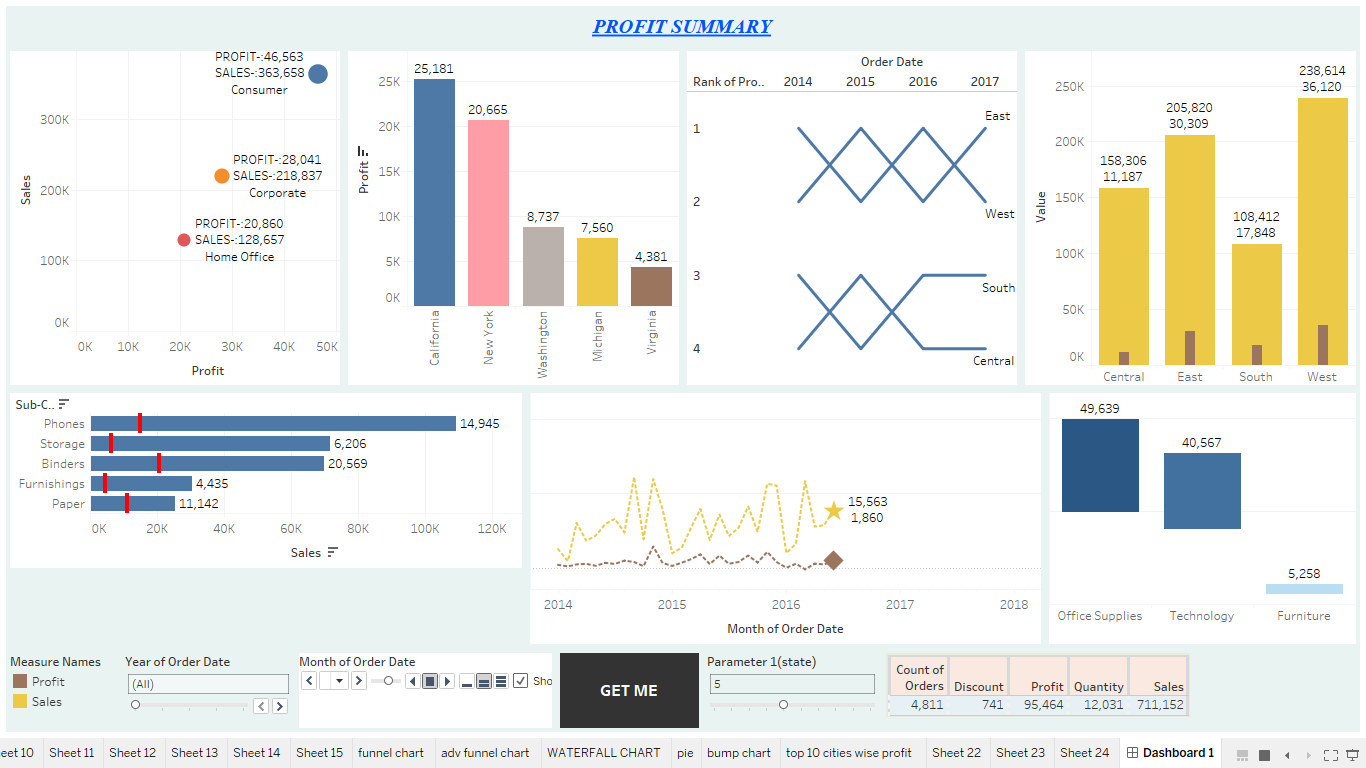

The page's visual inventory and layout, read from the dashboard file:
{"tool":"tableau","page":{"name":"Dashboard 1","canvas":[1000,1000],"units":"permille","ordinal":0},"visuals":[{"type":"text","box":[5.2,10.3,989.6,55.1]},{"type":"worksheet","title":"Sheet 24","mark":"Automatic","rows":["Sales"],"cols":["Profit"],"box":[5.2,65.4,247.3,462.1]},{"type":"worksheet","title":"top 10 cities wise profit","mark":"Automatic","rows":["Profit"],"cols":["State"],"box":[252.5,65.4,247.4,462.1]},{"type":"worksheet","title":"Sheet 23","mark":"Line","cols":["Order Date"],"box":[499.9,65.4,247.5,462.1]},{"type":"worksheet","title":"Sheet 4","mark":"Automatic","cols":["Region"],"box":[747.4,65.4,247.4,462.1]},{"type":"worksheet","title":"Sheet 2","mark":"Automatic","rows":["Sub-Category"],"cols":["Sales"],"box":[5.2,527.5,380.4,349.9]},{"type":"worksheet","title":"Sheet 9","mark":"Shape","cols":["Order Date"],"box":[385.6,527.5,379.2,349.9]},{"type":"worksheet","title":"WATERFALL CHART","mark":"GanttBar","rows":["Profit"],"cols":["Category"],"box":[764.8,527.5,230,349.9]},{"type":"legend","title":"Sheet 4","param":"[federated.0twfojf0efnptp1gytn1x1j2iaqu].[:Measure Names]","box":[5.2,877.4,83.9,112.3]},{"type":"filter","title":"Sheet 9","param":"[federated.0twfojf0efnptp1gytn1x1j2iaqu].[yr:Order Date:ok]","box":[89.1,877.4,127.6,112.3]},{"type":"currpage","title":"Sheet 9","box":[216.7,877.4,190.6,112.3]},{"type":"dashboard-object","box":[407.2,877.4,107.4,112.3]},{"type":"parameter","param":"[Parameters].[Parameter 1]","box":[514.6,877.4,130.9,112.3]},{"type":"worksheet","title":"Sheet 22","mark":"Automatic","box":[645.6,877.4,349.2,112.3]}]}

Visuals, with their boxes on the dashboard's canvas, which has no fixed pixel size, in thousandths of its width and height (x1, y1, x2, y2). These are canvas units, not pixel positions in the 1366x768 screenshot, which may show the page scaled, cropped or inside an application window:
text: left=5, top=10, right=995, bottom=65
"Sheet 24" worksheet: left=5, top=65, right=252, bottom=528
"top 10 cities wise profit" worksheet: left=252, top=65, right=500, bottom=528
"Sheet 23" worksheet (Line marks): left=500, top=65, right=747, bottom=528
"Sheet 4" worksheet: left=747, top=65, right=995, bottom=528
"Sheet 2" worksheet: left=5, top=528, right=386, bottom=877
"Sheet 9" worksheet (Shape marks): left=386, top=528, right=765, bottom=877
"WATERFALL CHART" worksheet (GanttBar marks): left=765, top=528, right=995, bottom=877
"Sheet 4" legend: left=5, top=877, right=89, bottom=990
"Sheet 9" filter: left=89, top=877, right=217, bottom=990
"Sheet 9" currpage: left=217, top=877, right=407, bottom=990
dashboard-object: left=407, top=877, right=515, bottom=990
parameter: left=515, top=877, right=646, bottom=990
"Sheet 22" worksheet: left=646, top=877, right=995, bottom=990
